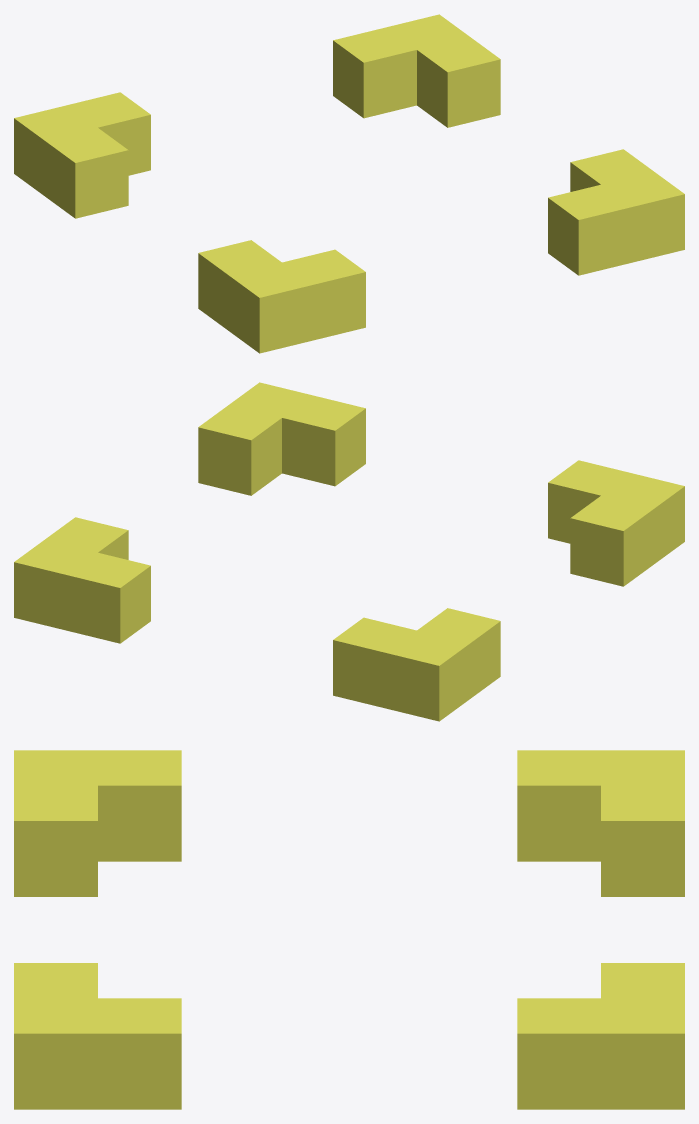
The model's file is TowerSelector.obj.
3 views of the same model, one above another, from view 1: azimuth 30°, elevation 25°; view 2: azimuth 150°, elevation 25°; view 3: azimuth 270°, elevation 25° (orthographic). The views are drawn at different scales.
Bounding box in the file's own units: 0.8 × 0.1 × 0.8.
Materials: 1 (1 with a texture image).
